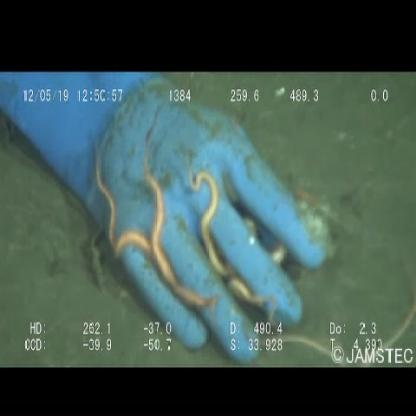Rác: (1, 73, 329, 364)
